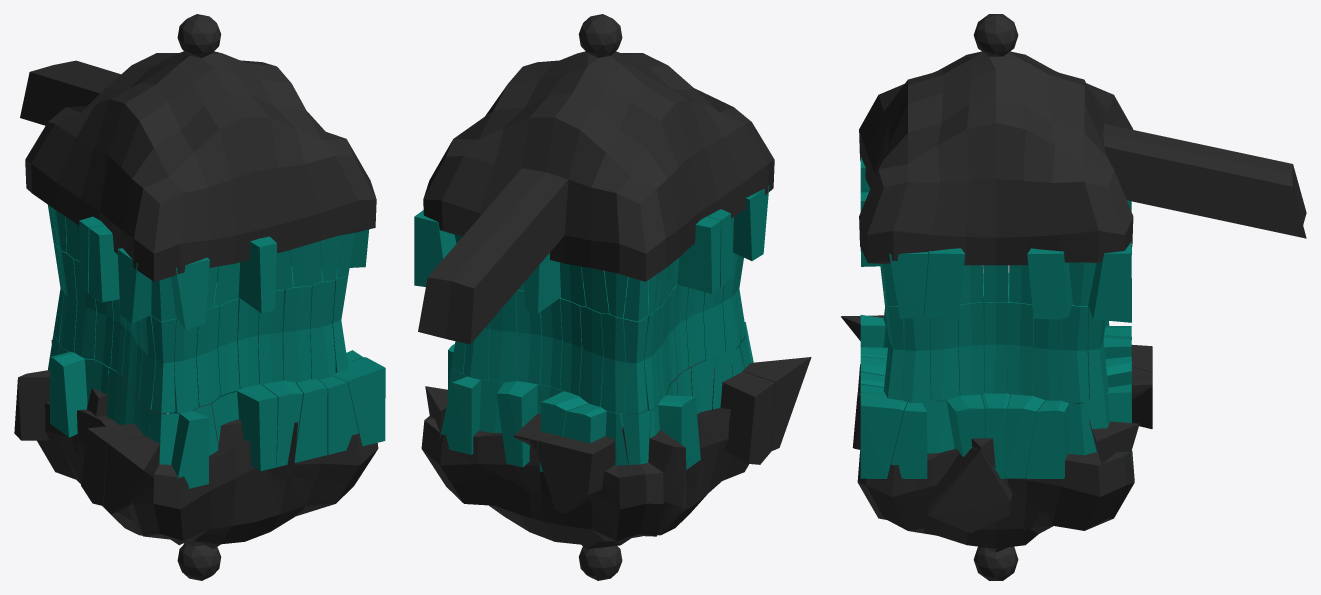
File: lamp wall sconce_ broken.fbx
The picture shows the model from 3 angles, left to right: view 1: azimuth 30°, elevation 25°; view 2: azimuth 150°, elevation 25°; view 3: azimuth 270°, elevation 25°; orthographic projection.
Parts seen in each view (by area): view 1: Cube.003, Cube.005, Cube.005_cell.093, Cube.001_cell.011, Cube.001_cell.057, Cube.001_cell.062, Cube.001_cell.038, Cube.001_cell.060, Cube.001_cell.071, Cube.001_cell.061, Cube.001_cell.055, Cube.005_cell.006 (+40 smaller); view 2: Cube.003, Cube.005, Cube.005_cell.004, Cube.005_cell.006, Cube.001_cell.079, Cube.001_cell.050, Cube.005_cell.093, Cube.001_cell.081, Cube.001_cell.082, Cube.005_cell.007, Cube.001_cell.087, Cube.001_cell.083 (+39 smaller); view 3: Cube.003, Cube.005, Cube.005_cell.010, Cube.001_cell.011, Cube.001_cell.013, Cube.001_cell.027, Cube.001_cell.006, Cube.001_cell.031, Cube.001_cell.019, Cube.001_cell.021, Cube.001_cell.023, Cube.001_cell.022 (+27 smaller).
Part boxes in pixels (left/top/right/bottom): Cube.003: left=20, top=14, right=376, bottom=281; Cube.005: left=37, top=402, right=377, bottom=580; Cube.005_cell.093: left=103, top=436, right=159, bottom=514; Cube.001_cell.011: left=332, top=357, right=385, bottom=446; Cube.001_cell.057: left=212, top=384, right=277, bottom=471; Cube.001_cell.062: left=282, top=267, right=311, bottom=382; Cube.001_cell.038: left=50, top=352, right=116, bottom=437; Cube.001_cell.060: left=169, top=411, right=208, bottom=488; Cube.001_cell.071: left=216, top=236, right=276, bottom=313; Cube.001_cell.061: left=310, top=271, right=335, bottom=379; Cube.001_cell.055: left=294, top=379, right=327, bottom=462; Cube.005_cell.006: left=81, top=422, right=149, bottom=505; Cube.003: left=418, top=14, right=774, bottom=344; Cube.005: left=421, top=408, right=735, bottom=580; Cube.005_cell.004: left=537, top=436, right=615, bottom=513; Cube.005_cell.006: left=692, top=367, right=775, bottom=464; Cube.001_cell.079: left=496, top=380, right=562, bottom=467; Cube.001_cell.050: left=660, top=216, right=720, bottom=293; Cube.005_cell.093: left=731, top=357, right=811, bottom=451; Cube.001_cell.081: left=439, top=376, right=491, bottom=454; Cube.001_cell.082: left=601, top=299, right=625, bottom=413; Cube.005_cell.007: left=622, top=427, right=686, bottom=508; Cube.001_cell.087: left=488, top=292, right=517, bottom=382; Cube.001_cell.083: left=579, top=293, right=608, bottom=406; Cube.003: left=859, top=14, right=1306, bottom=265; Cube.005: left=857, top=365, right=1134, bottom=580; Cube.005_cell.010: left=926, top=448, right=1012, bottom=533; Cube.001_cell.011: left=860, top=392, right=907, bottom=478; Cube.001_cell.013: left=1026, top=399, right=1074, bottom=478; Cube.001_cell.027: left=1027, top=248, right=1072, bottom=319; Cube.001_cell.006: left=1088, top=242, right=1131, bottom=322; Cube.001_cell.031: left=923, top=248, right=964, bottom=319; Cube.001_cell.019: left=1061, top=304, right=1089, bottom=402; Cube.001_cell.021: left=1007, top=298, right=1033, bottom=395; Cube.001_cell.023: left=958, top=302, right=984, bottom=395; Cube.001_cell.022: left=983, top=273, right=1009, bottom=393.
Size of the model in its own units: 88.18 by 176 by 131.
